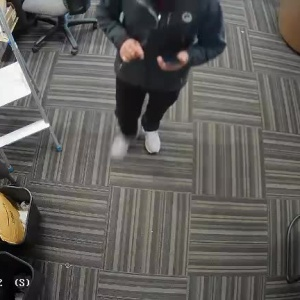person: (104, 0, 212, 159)
